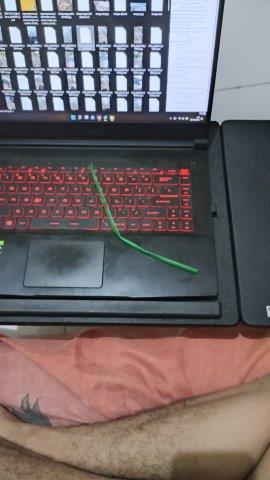sedotan: (90, 166, 196, 272)
